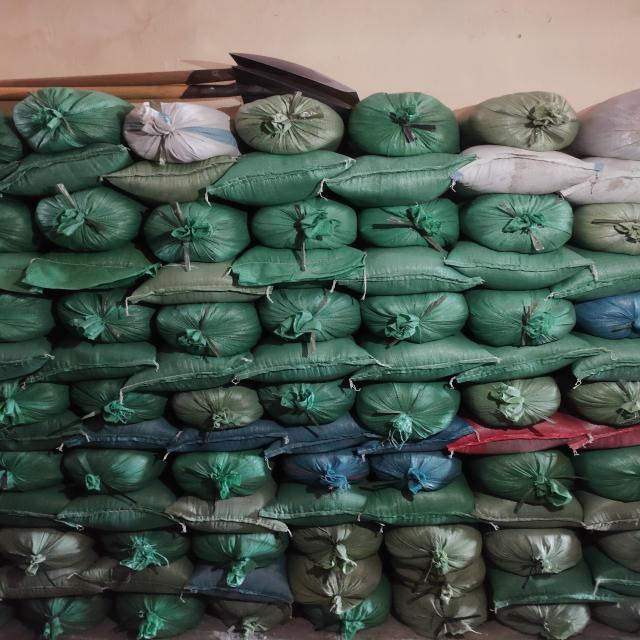Bistay sand: (130, 107, 234, 163), (354, 96, 458, 152), (240, 99, 343, 155), (476, 94, 579, 147), (358, 376, 457, 431), (451, 246, 594, 283), (171, 447, 272, 498), (468, 148, 590, 190), (23, 92, 114, 147), (393, 530, 479, 587), (167, 304, 256, 359), (262, 291, 351, 346), (476, 292, 564, 347), (366, 290, 454, 344), (42, 199, 139, 246), (264, 203, 361, 250), (478, 454, 577, 500), (61, 296, 161, 341), (342, 158, 463, 195), (152, 210, 249, 256), (363, 207, 460, 253), (480, 202, 577, 248), (222, 160, 342, 197), (353, 256, 477, 291), (468, 496, 588, 532), (359, 491, 479, 527), (1, 380, 74, 437), (469, 379, 557, 425), (80, 381, 167, 427), (395, 590, 491, 631), (1, 526, 93, 568), (102, 592, 201, 631), (500, 526, 577, 576), (231, 253, 373, 280), (135, 270, 264, 299), (24, 259, 153, 288), (283, 452, 376, 492), (376, 453, 469, 493), (106, 524, 191, 566), (195, 528, 280, 570), (459, 426, 590, 453), (173, 391, 255, 434), (258, 382, 340, 425), (358, 423, 461, 457), (279, 423, 382, 457), (184, 421, 287, 455), (294, 522, 379, 563), (117, 164, 237, 192), (7, 155, 127, 183), (293, 558, 380, 596), (13, 592, 112, 625), (264, 491, 368, 522), (72, 496, 176, 527), (562, 253, 640, 294), (176, 497, 279, 528), (1, 564, 112, 592), (192, 564, 285, 597), (1, 454, 76, 492), (80, 450, 155, 488), (49, 349, 159, 374), (582, 294, 640, 340), (501, 602, 593, 631), (493, 580, 599, 605), (130, 365, 245, 388), (248, 354, 363, 377), (366, 352, 481, 375), (467, 345, 582, 368), (587, 99, 636, 150), (204, 597, 289, 626), (114, 564, 199, 593), (583, 456, 640, 499), (75, 428, 172, 453), (1, 295, 54, 340), (574, 384, 640, 419), (580, 338, 640, 376), (583, 496, 640, 535), (1, 343, 60, 379), (584, 210, 640, 247), (1, 491, 65, 523), (595, 526, 640, 570), (1, 429, 66, 459), (596, 156, 640, 200), (323, 596, 385, 627), (1, 201, 37, 252), (574, 425, 640, 450), (594, 573, 640, 596)
